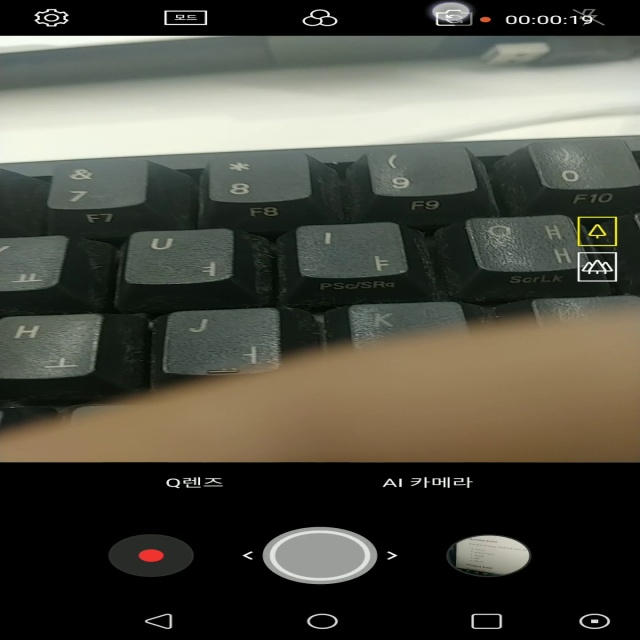Cursor: (428, 1, 472, 24)
